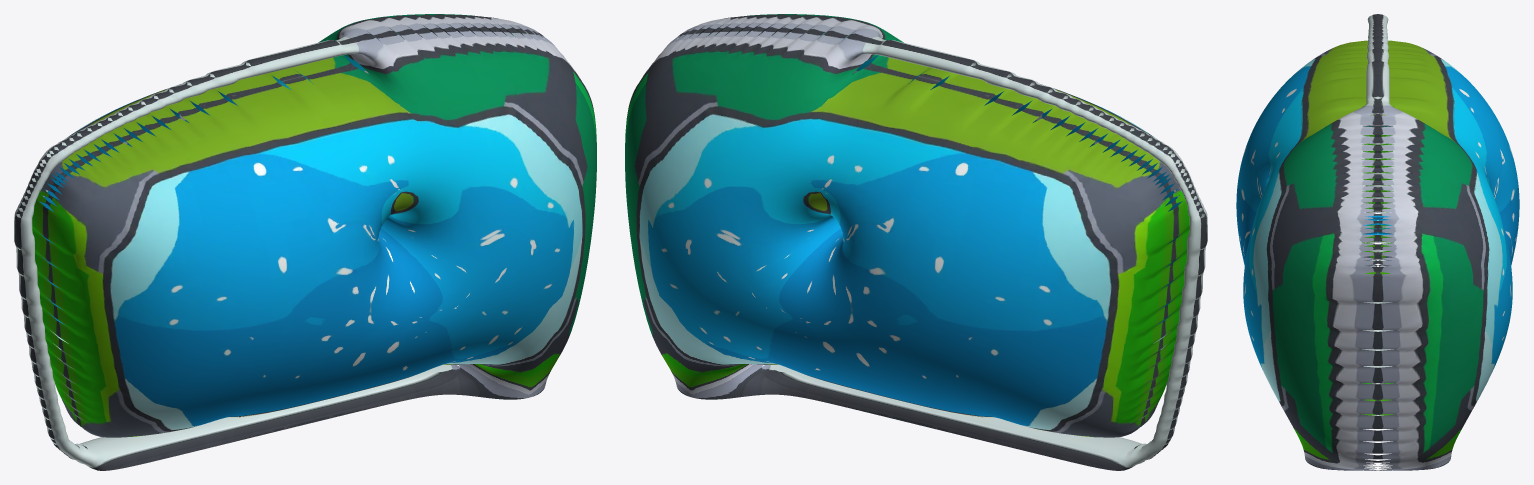
The model's file is wall_monitor.glb.
3 views of the same model, side by side, from view 1: azimuth 30°, elevation 25°; view 2: azimuth 150°, elevation 25°; view 3: azimuth 270°, elevation 25° (orthographic). The views are drawn at different scales.
Visible parts, largest first — view 1: wall_monitor; view 2: wall_monitor; view 3: wall_monitor.
Part boxes in pixels (x1,y1,x2,y2): wall_monitor: (14, 14, 596, 470); wall_monitor: (625, 14, 1207, 470); wall_monitor: (1236, 14, 1519, 470).
Bounding box in the file's own units: 0.9889 × 0.6126 × 0.5217.
1 material, 1 textured.
